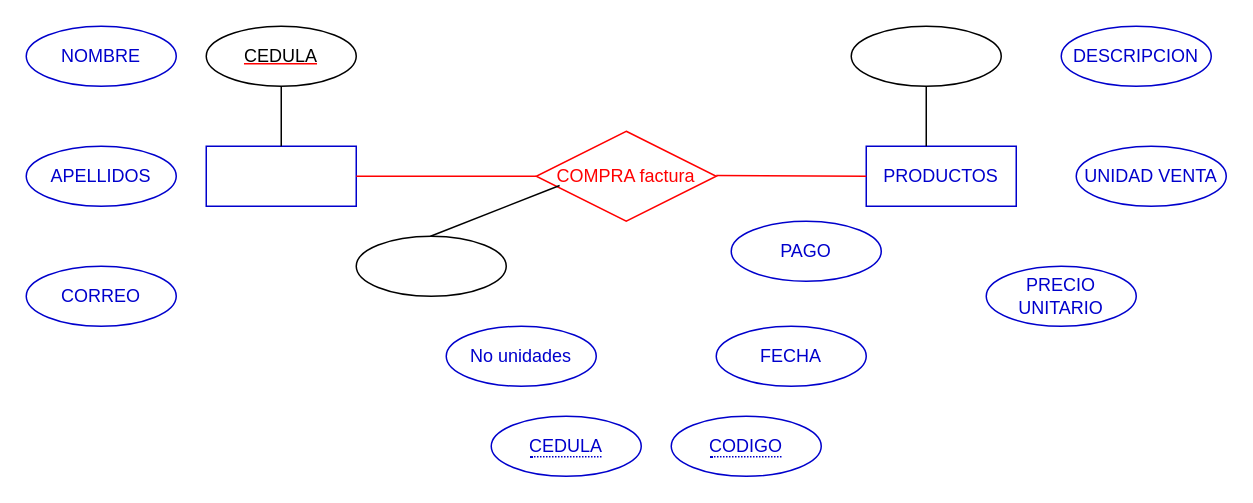
Some shapes in this 1253 by 503 pixel diagram are drawn without their labels. Here are the shapes that lost their labels. From the top down, the centre of each, then its label:
[925,55]: CÓDIGO
[280,175]: CLIENTES
[430,265]: No FACTURA
